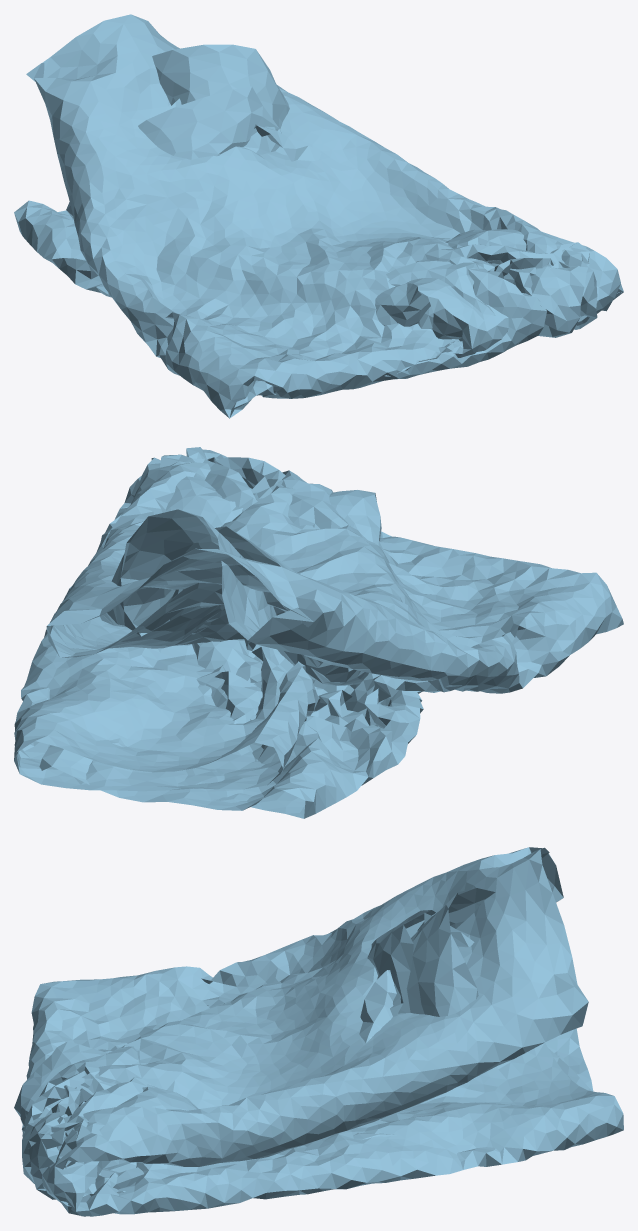
Rendered from frame_19.glb.
3 renders of one model, top to bottom at view 1: azimuth 30°, elevation 25°; view 2: azimuth 150°, elevation 25°; view 3: azimuth 270°, elevation 25°, orthographic. The views are drawn at different scales.
Parts seen in each view (by area): view 1: frame_19.obj; view 2: frame_19.obj; view 3: frame_19.obj.
Boxes of the visible parts, x1,y1,x2,y2 form: frame_19.obj: (14,14,623,418); frame_19.obj: (14,447,623,818); frame_19.obj: (14,847,623,1216).
Bounding box in the file's own units: 0.872 × 0.4189 × 1.02.
